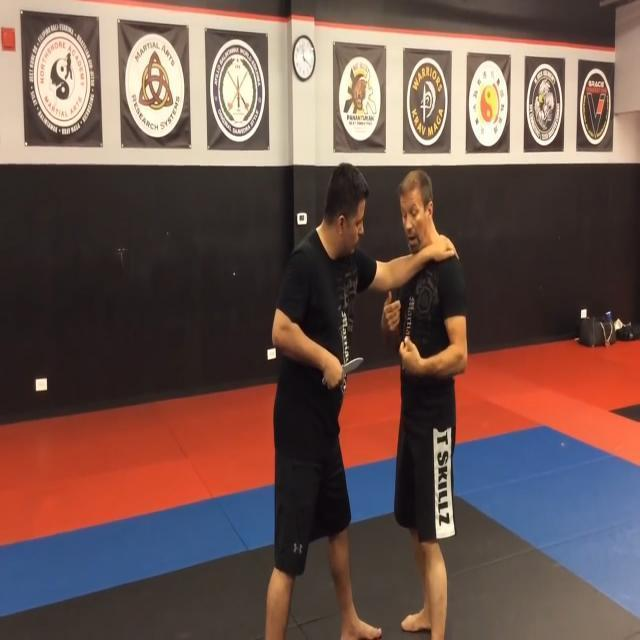-: (320, 351, 364, 391)
